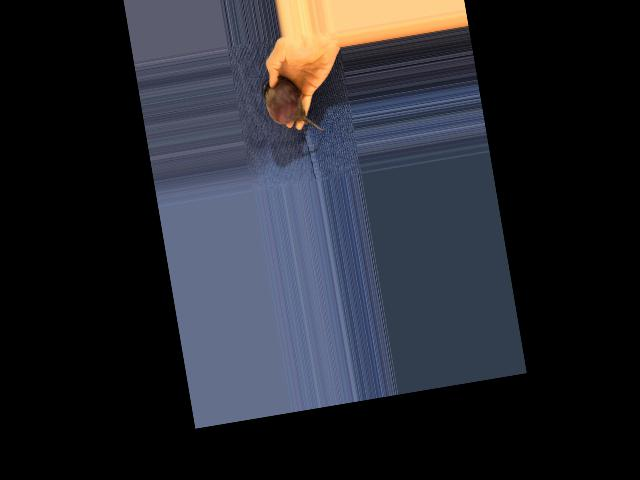beet: (259, 70, 324, 139)
